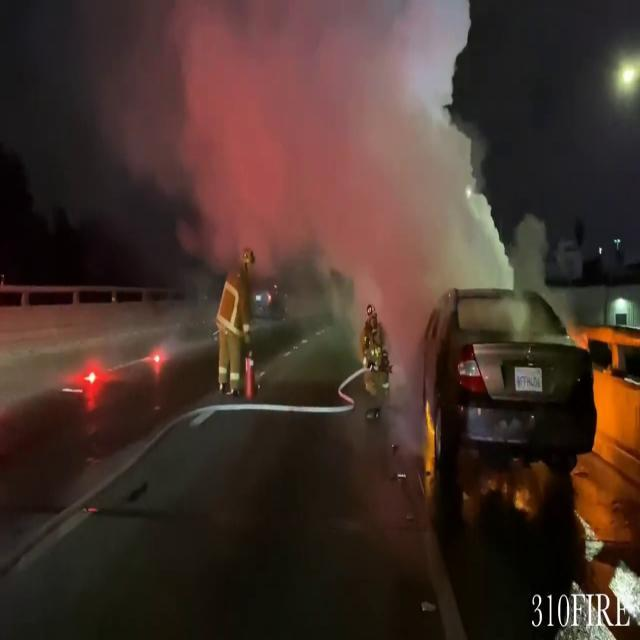Smoke: (1, 0, 503, 292)
